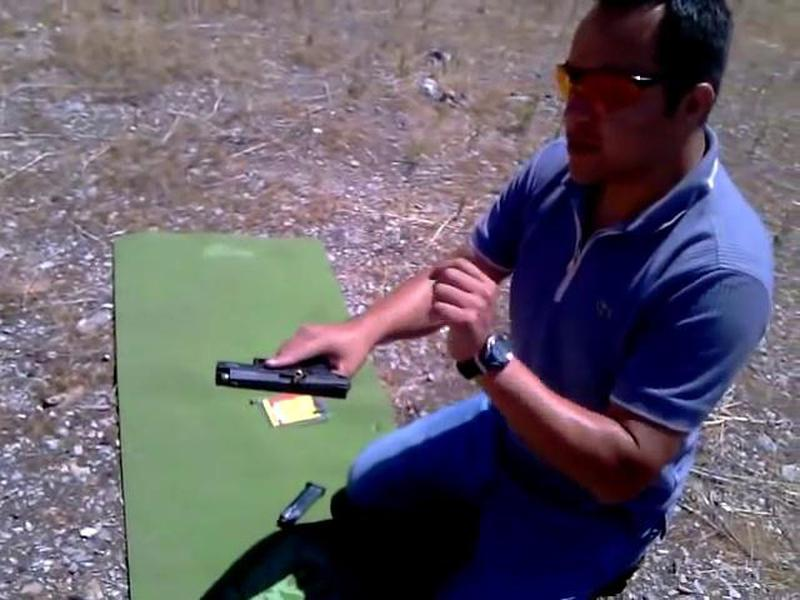Pistola: (183, 330, 378, 433)
